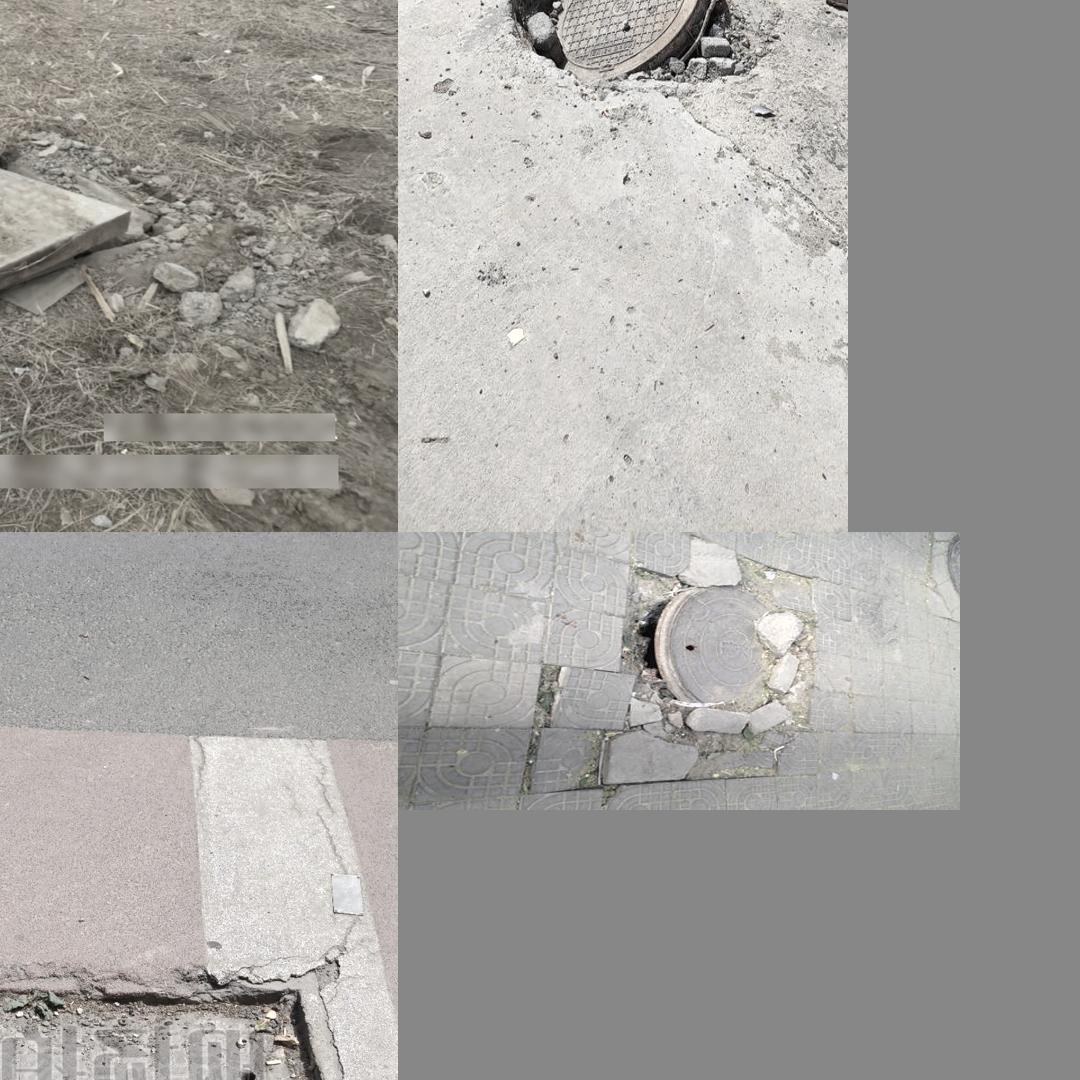circle: (599, 567, 819, 787), (0, 125, 183, 366), (467, 0, 787, 134), (0, 979, 346, 1080)
